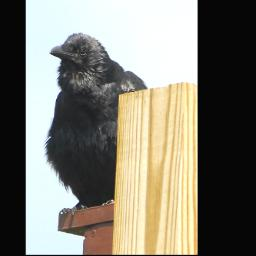Crow: (42, 32, 146, 214)
